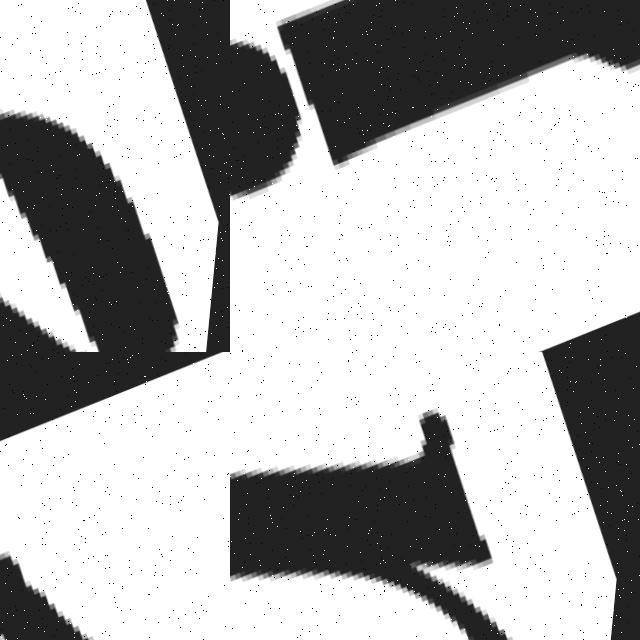2: (0, 0, 230, 352)
J: (230, 0, 640, 254)
R: (0, 352, 230, 640)
U: (230, 352, 617, 640)
